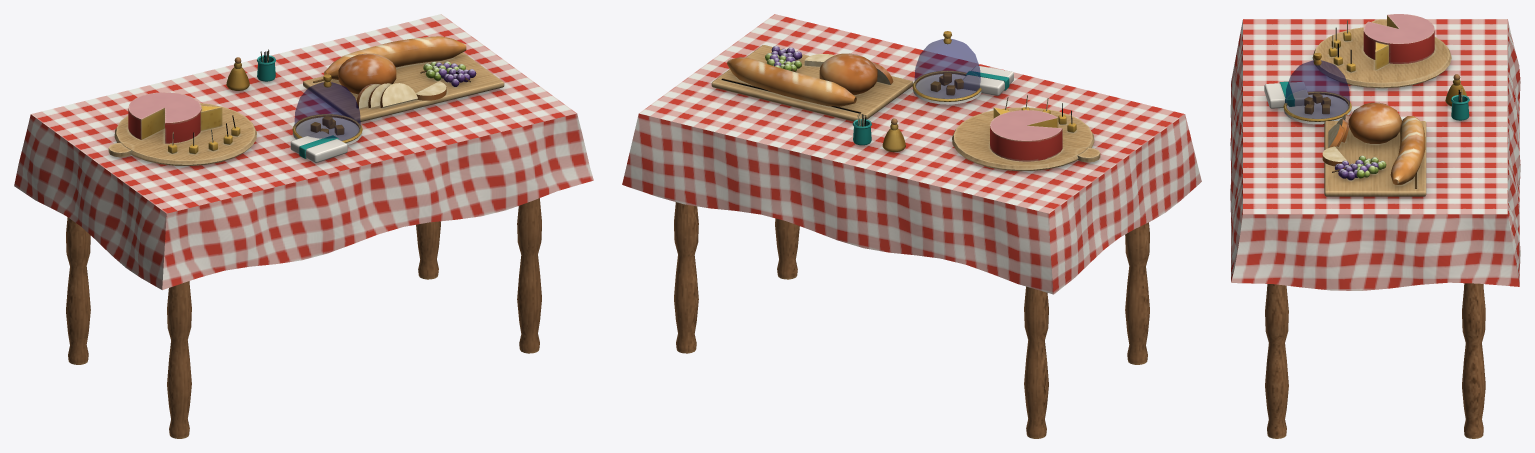
Rendered from tasting-table.fbx.
3 views of the same model, side by side, from view 1: azimuth 30°, elevation 25°; view 2: azimuth 150°, elevation 25°; view 3: azimuth 270°, elevation 25° (orthographic). The views are drawn at different scales.
Parts seen in each view (by area): view 1: Body; view 2: Body; view 3: Body.
Boxes of the visible parts, left/top/right/bottom form: Body: left=14, top=14, right=593, bottom=438; Body: left=622, top=14, right=1201, bottom=438; Body: left=1230, top=14, right=1520, bottom=438.
Bounding box in the file's own units: 1.44 × 0.959 × 0.8557.
